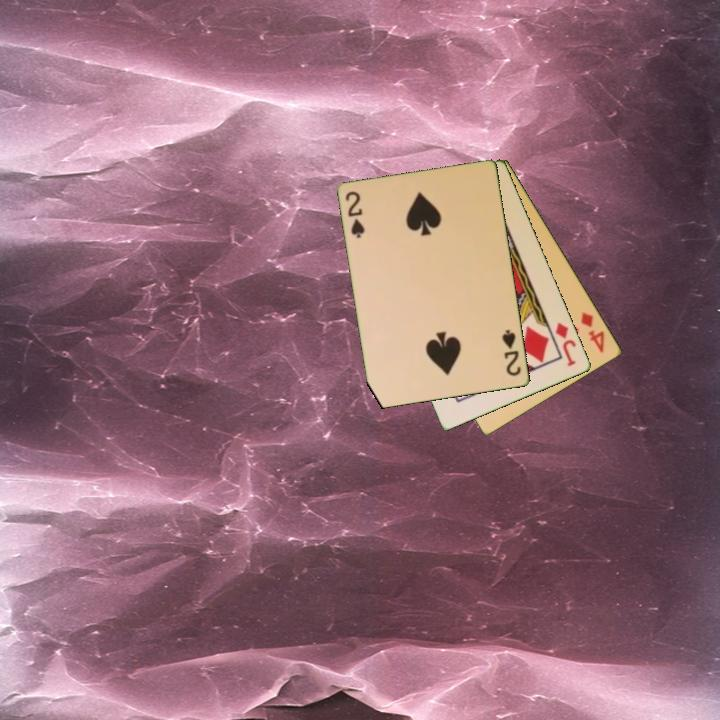2s: (342, 188, 368, 241), (499, 326, 524, 379)
4d: (578, 308, 608, 356)
Jd: (552, 319, 580, 369)
